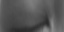LeftEyeFatigue: (4, 5, 56, 32)
